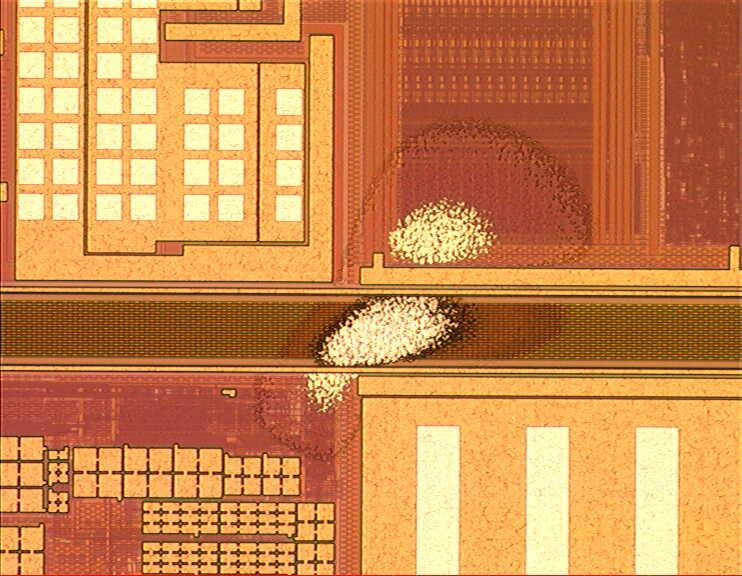BLOCK ETCH: (253, 119, 593, 462)
